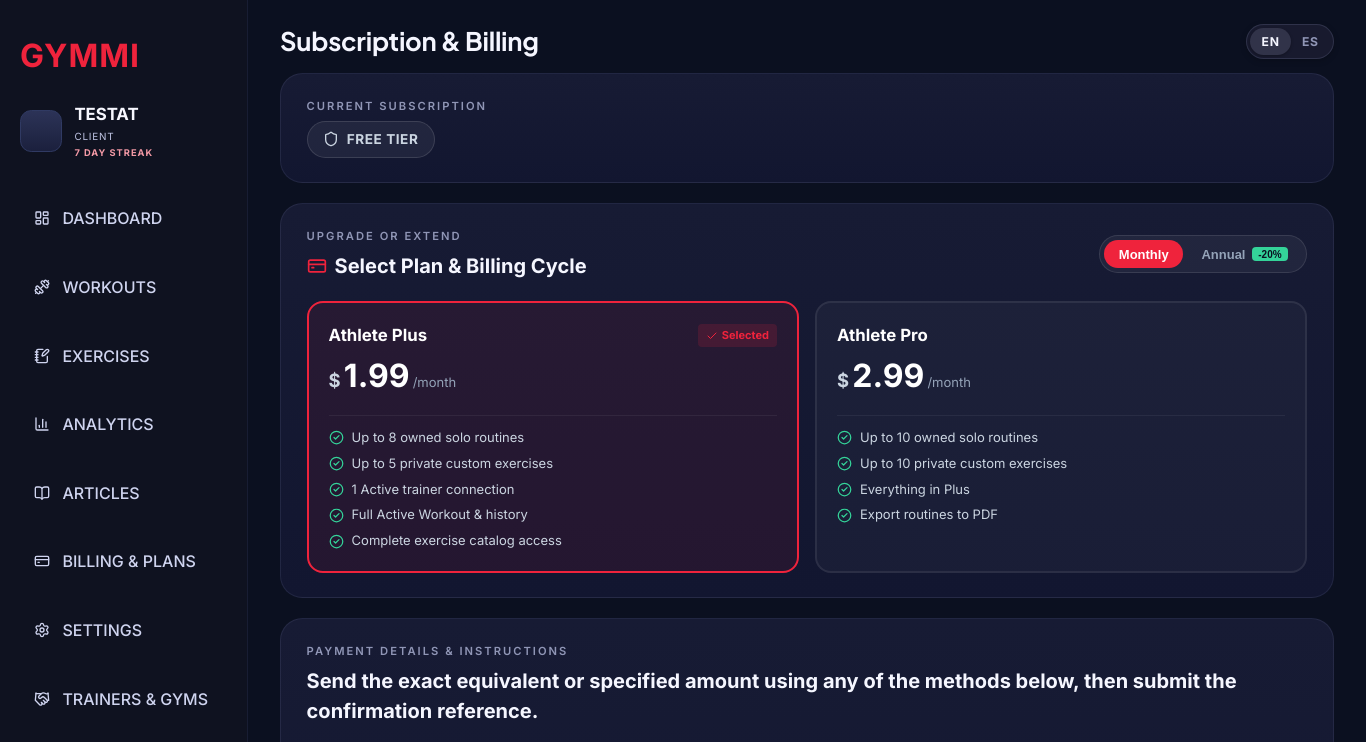
Test: BillingPage › shows API prices, and annual totals per year
Expected: the text "1.99" is shown, x1=344 y1=360 x2=410 y2=392
Click the button "Annual -20%" at {"x": 1245, "y": 254}, box x1=1187 y1=240 x2=1302 y2=268
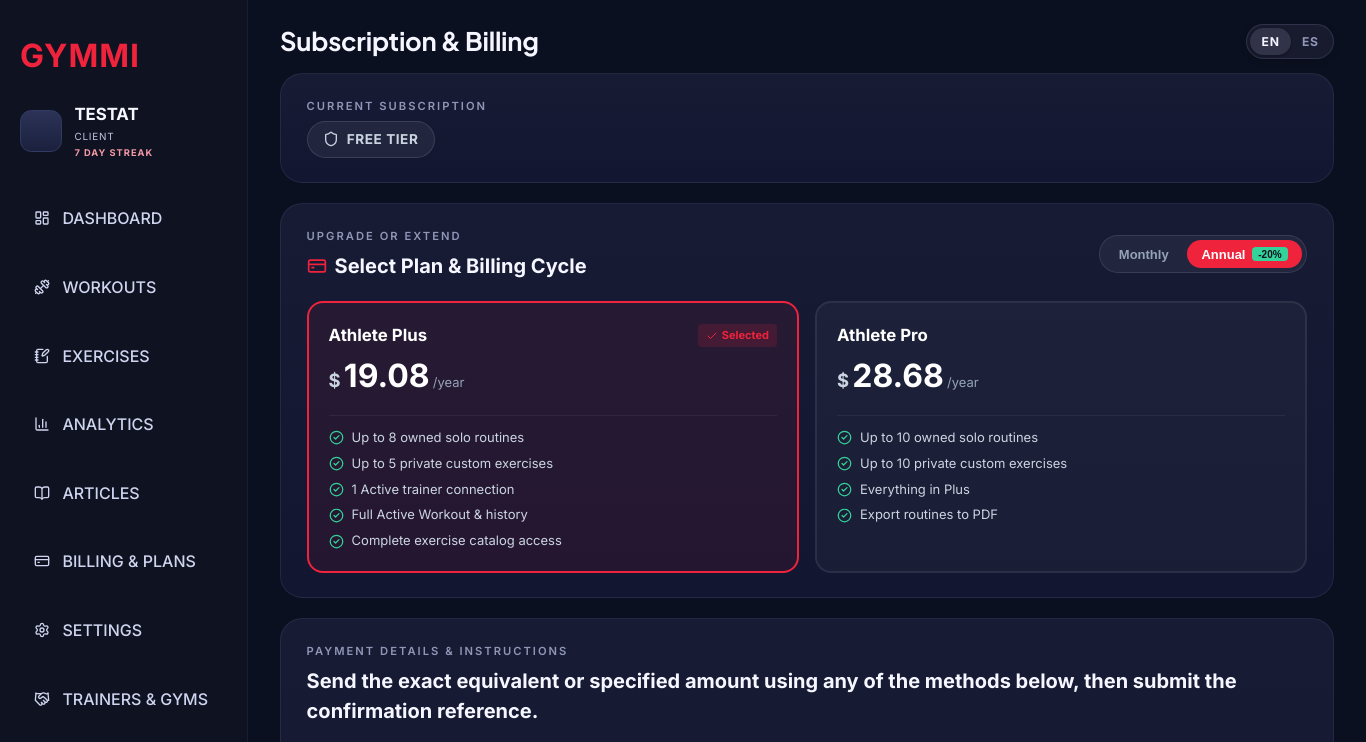
Result: the text "28.68" is shown at x1=852 y1=360 x2=944 y2=392
Result: the text "19.08" is shown at x1=344 y1=360 x2=430 y2=392
